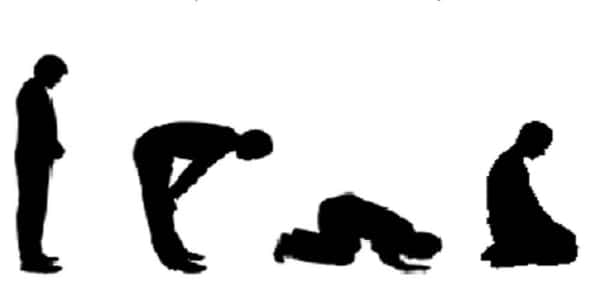ruku: (133, 85, 279, 285)
